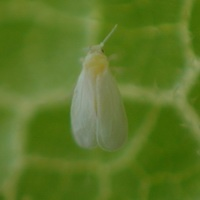insect: (71, 24, 127, 150)
